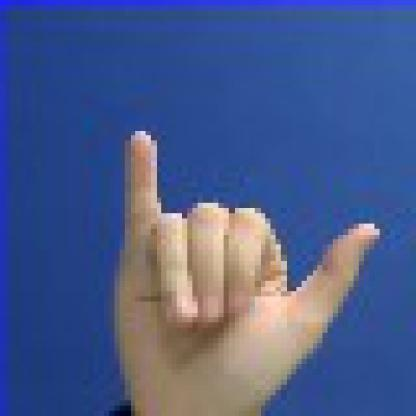six: (78, 104, 395, 411)
